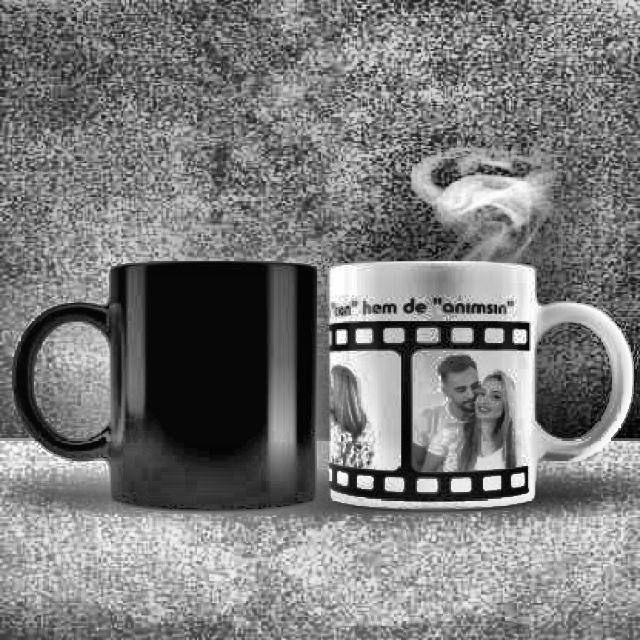Mug: (328, 262, 634, 513), (14, 261, 317, 514)
